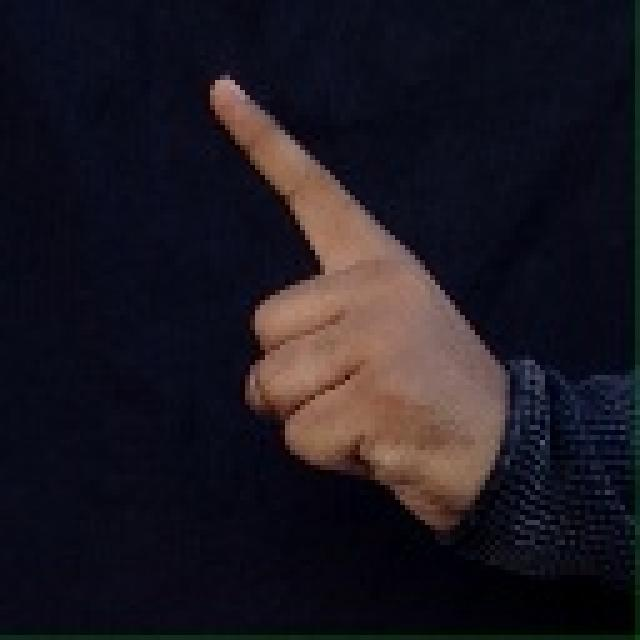Alphabet-I: (203, 56, 511, 520)
